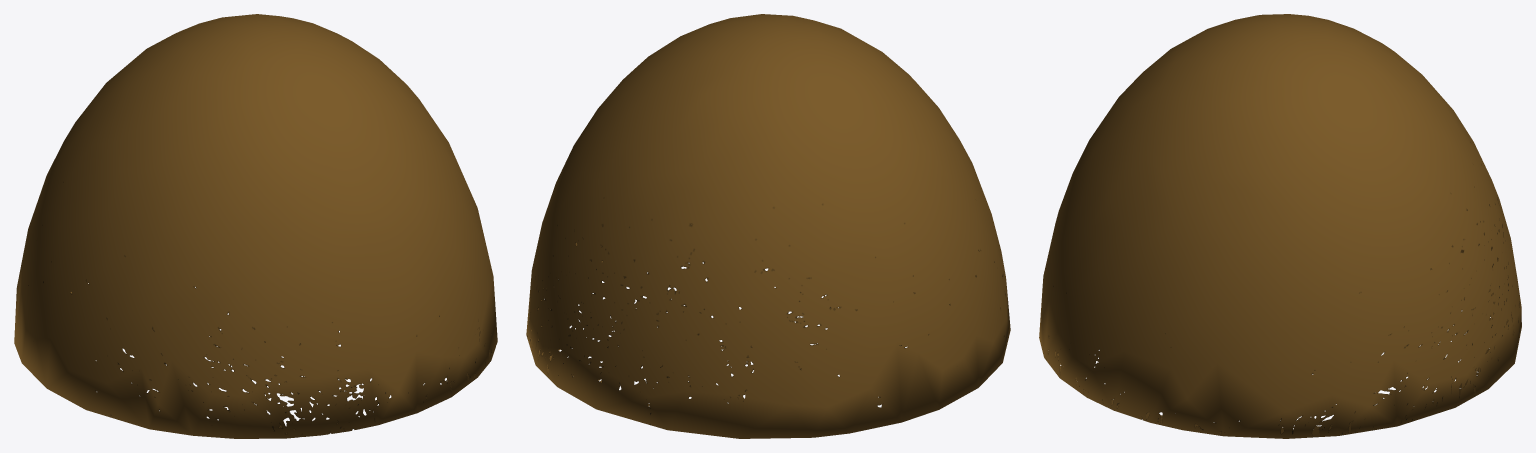
Rendered from straw2.fbx.
3 renders of one model, left to right at view 1: azimuth 30°, elevation 25°; view 2: azimuth 150°, elevation 25°; view 3: azimuth 270°, elevation 25°, orthographic.
Visible parts, largest first — view 1: Sphere.001; view 2: Sphere.001; view 3: Sphere.001.
Part boxes in pixels (x1,y1,x2,y2): Sphere.001: (14,14,497,438); Sphere.001: (526,14,1010,438); Sphere.001: (1039,14,1521,438).
Size of the model in its own units: 443 by 309 by 442.
Materials: 1 (1 with a texture image).
